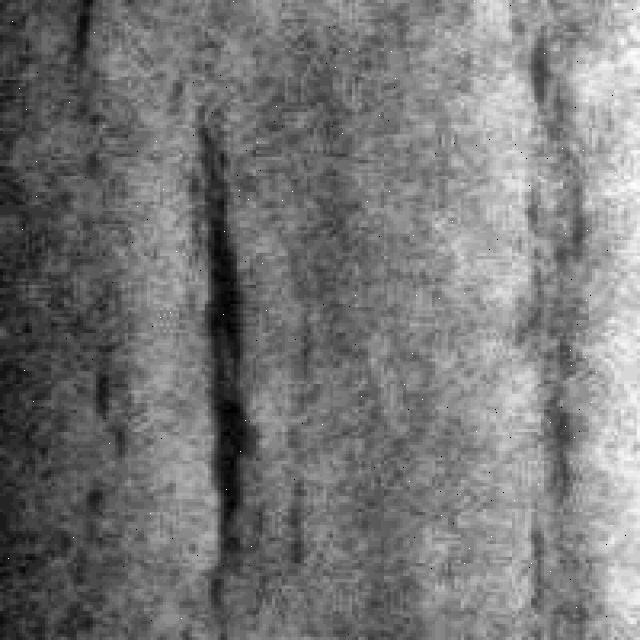Patches: (502, 121, 602, 612), (189, 86, 285, 576), (512, 10, 582, 134), (67, 0, 106, 115)
